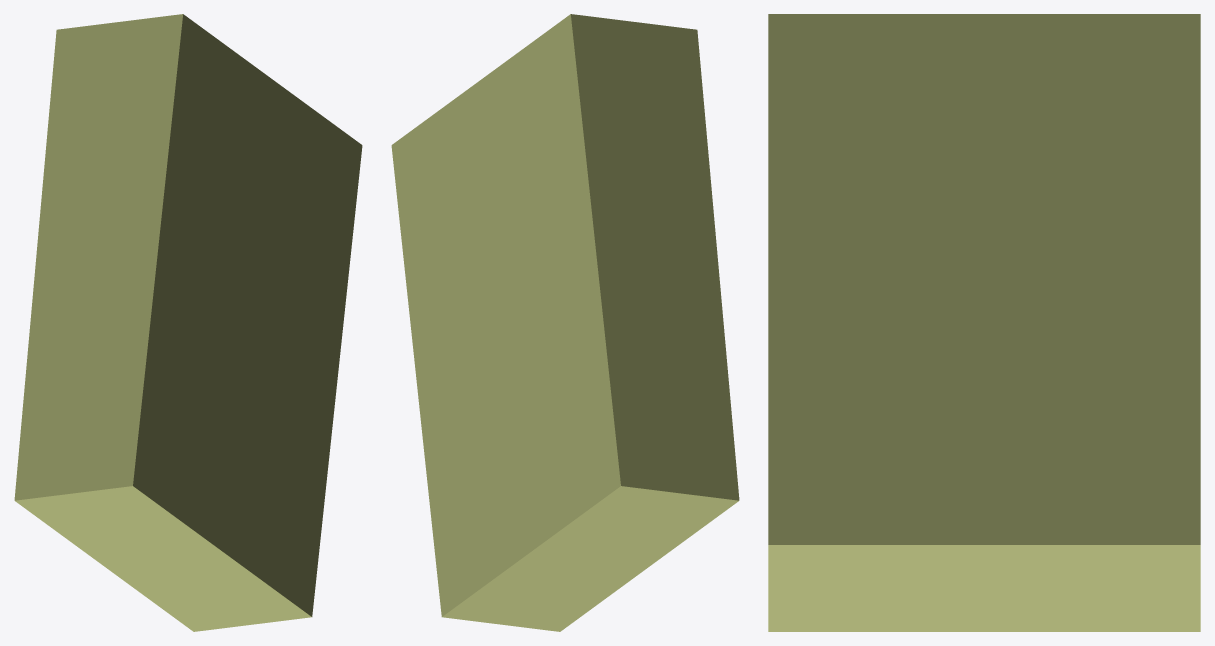
3 views of the same model, side by side, from view 1: azimuth 30°, elevation 25°; view 2: azimuth 150°, elevation 25°; view 3: azimuth 270°, elevation 25° (orthographic). The views are drawn at different scales.
Visible parts, largest first — view 1: 0_0_1_3_2_1_2_3_1_0; view 2: 0_0_1_3_2_1_2_3_1_0; view 3: 0_0_1_3_2_1_2_3_1_0.
Boxes of the visible parts, bbox=[...] form: 0_0_1_3_2_1_2_3_1_0: bbox=[14, 14, 362, 631]; 0_0_1_3_2_1_2_3_1_0: bbox=[391, 14, 739, 631]; 0_0_1_3_2_1_2_3_1_0: bbox=[768, 14, 1200, 631].
Size of the model in its own units: 4.89 by 13.15 by 9.
